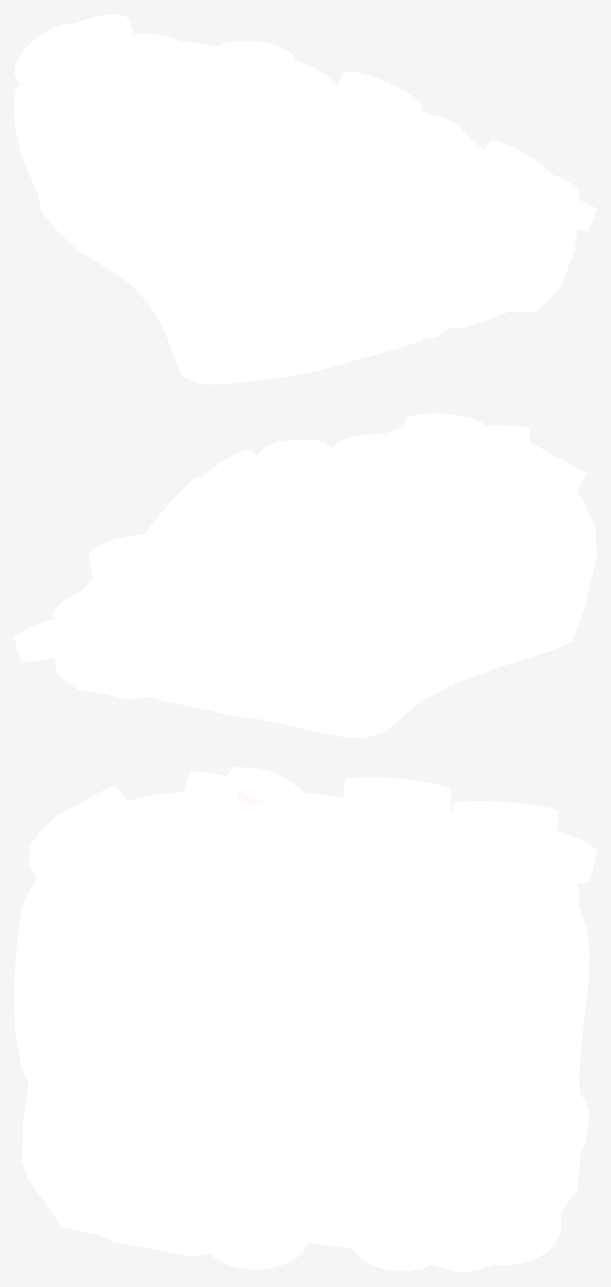
File: treature2.gltf
3 views of the same model, one above another, from view 1: azimuth 30°, elevation 25°; view 2: azimuth 150°, elevation 25°; view 3: azimuth 270°, elevation 25° (orthographic). The views are drawn at different scales.
Visible parts, largest first — view 1: treasure2_coin, treasure2; view 2: treasure2_coin, treasure2; view 3: treasure2_coin, treasure2.
Part boxes in pixels (x1,y1,x2,y2): treasure2_coin: (14, 14, 596, 259); treasure2: (14, 85, 577, 384); treasure2_coin: (14, 413, 586, 661); treasure2: (54, 474, 596, 738); treasure2_coin: (28, 767, 596, 1271); treasure2: (14, 821, 589, 1272).
Bounding box in the file's own units: 74.84 × 37.29 × 64.24.
1 material, 1 textured.
